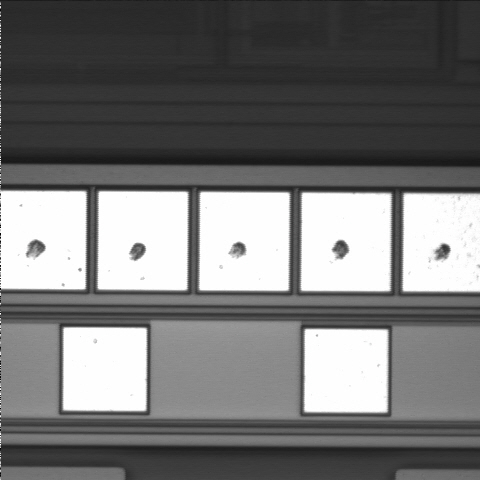pad: (98, 191, 188, 290), (199, 192, 289, 291), (301, 193, 391, 291), (63, 328, 147, 411), (304, 329, 388, 412)
